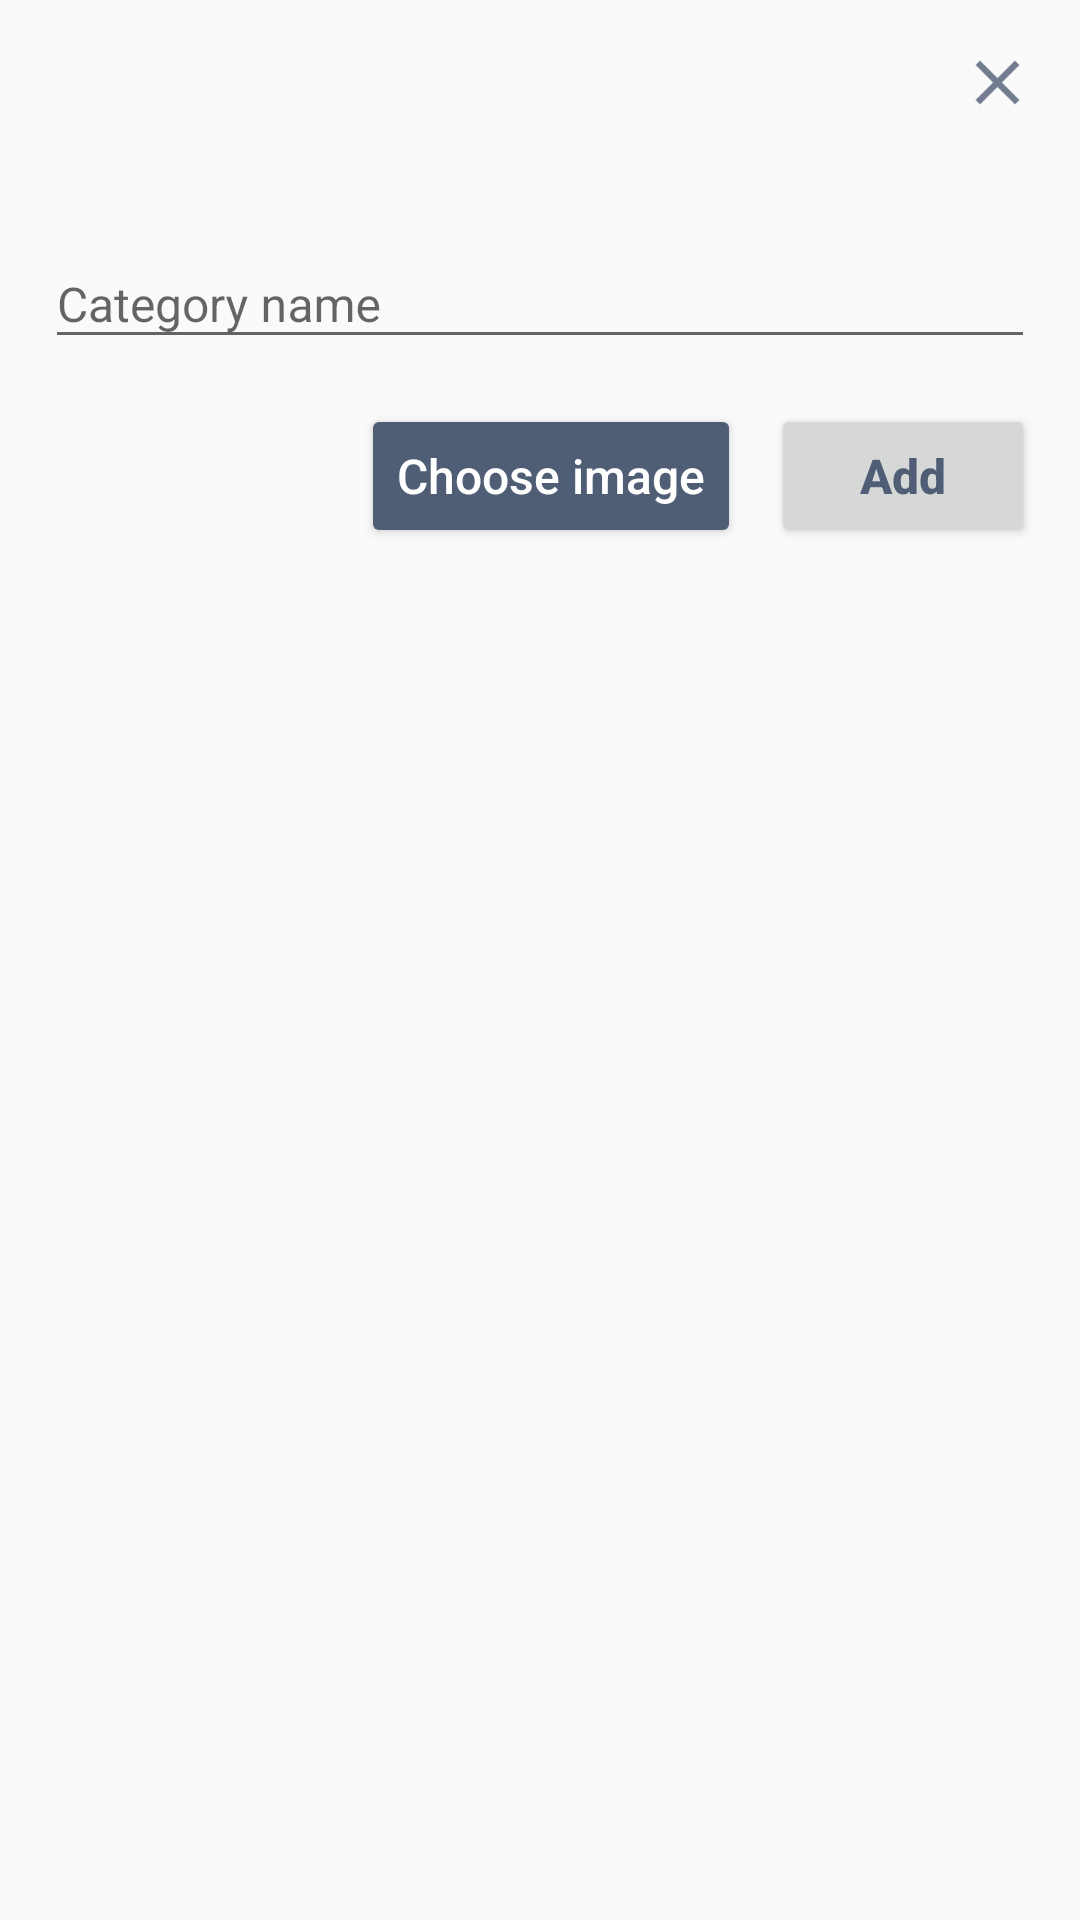

Icons on this 1080x1920 Android screen, each with the point to tap as (x,y):
close: (997,82)
